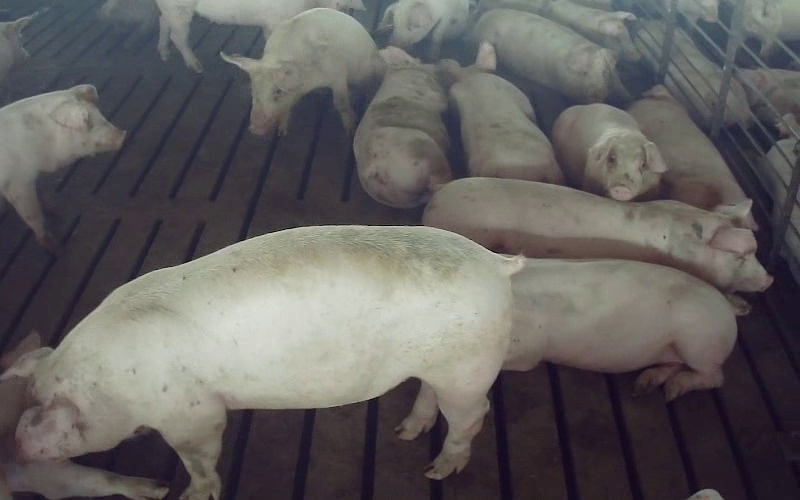pig: (4, 226, 524, 497), (423, 177, 772, 314), (504, 259, 736, 399), (0, 85, 125, 251), (222, 8, 384, 134), (441, 42, 563, 183), (353, 47, 451, 207), (627, 86, 747, 209), (475, 9, 631, 102), (552, 103, 666, 200)
